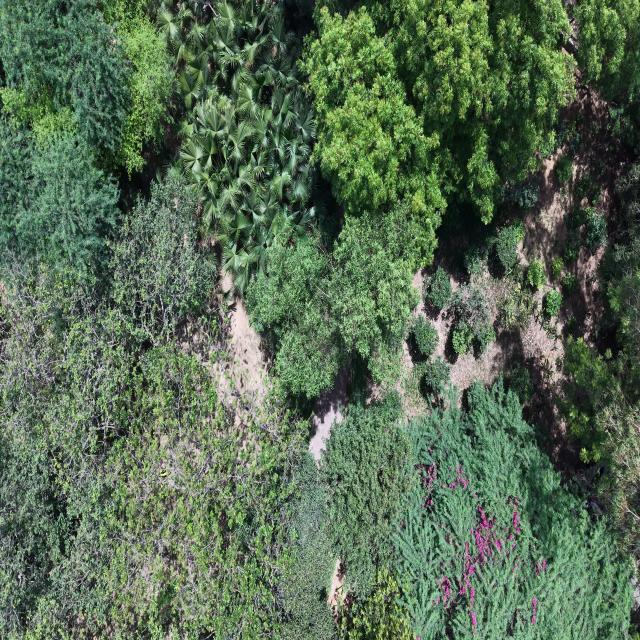DRY_AREA: (432, 90, 616, 474), (432, 248, 603, 470), (309, 368, 348, 462)
VEGETATION_TREE: (0, 0, 639, 639), (0, 2, 304, 637), (262, 2, 638, 397), (0, 258, 304, 637), (321, 384, 631, 638), (301, 6, 572, 263), (393, 385, 630, 638), (103, 351, 302, 636), (300, 7, 493, 262), (0, 0, 172, 286), (359, 2, 574, 221), (158, 0, 315, 294), (302, 8, 445, 262), (246, 211, 418, 397), (561, 165, 639, 562), (0, 0, 130, 161), (0, 115, 118, 286), (321, 395, 410, 597), (110, 179, 216, 344), (246, 236, 343, 397), (332, 206, 420, 383), (109, 0, 174, 176), (277, 454, 336, 639), (572, 0, 639, 146), (602, 165, 639, 382), (563, 337, 621, 461), (597, 397, 639, 562), (340, 570, 412, 639), (573, 0, 625, 82), (409, 315, 450, 403), (450, 286, 495, 354), (406, 350, 450, 405), (564, 206, 606, 263), (497, 279, 534, 328), (493, 223, 523, 273), (505, 174, 539, 212), (556, 113, 584, 159), (420, 356, 450, 396), (505, 363, 534, 403), (425, 267, 452, 309), (412, 315, 438, 357), (585, 208, 606, 250), (575, 172, 600, 204), (464, 246, 485, 277), (566, 125, 584, 157), (527, 261, 546, 291), (563, 230, 580, 263), (564, 207, 587, 231), (544, 290, 562, 317), (556, 155, 572, 184), (561, 274, 577, 295), (565, 316, 578, 338), (552, 258, 564, 279)
